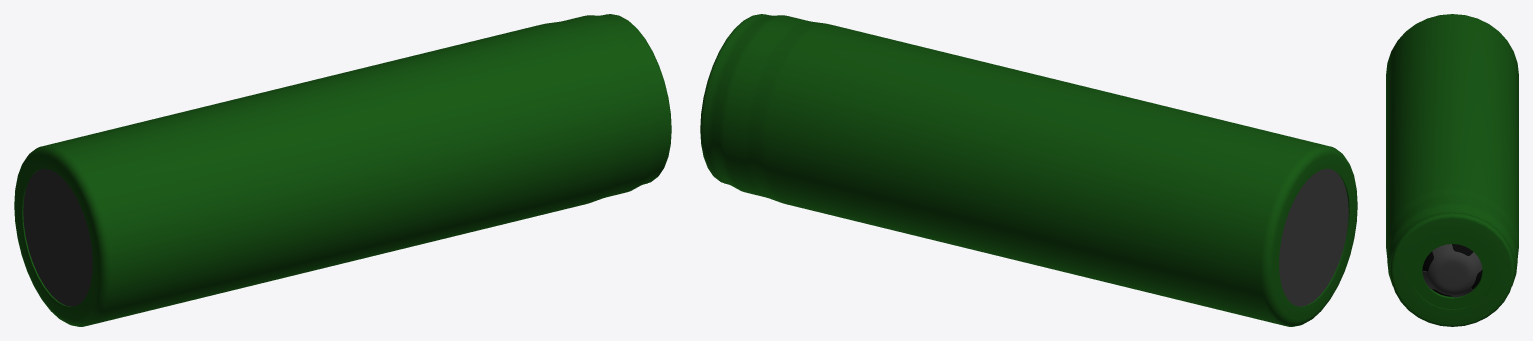
The model's file is Battery1.fbx.
3 renders of one model, left to right at view 1: azimuth 30°, elevation 25°; view 2: azimuth 150°, elevation 25°; view 3: azimuth 270°, elevation 25°, orthographic. The views are drawn at different scales.
Visible parts, largest first — view 1: 物体; view 2: 物体; view 3: 物体.
Boxes of the visible parts, <box> form: 物体: <box>14,14,671,326</box>; 物体: <box>700,14,1357,326</box>; 物体: <box>1386,14,1518,326</box>.
Size of the model in its own units: 223 by 61.65 by 61.65.
